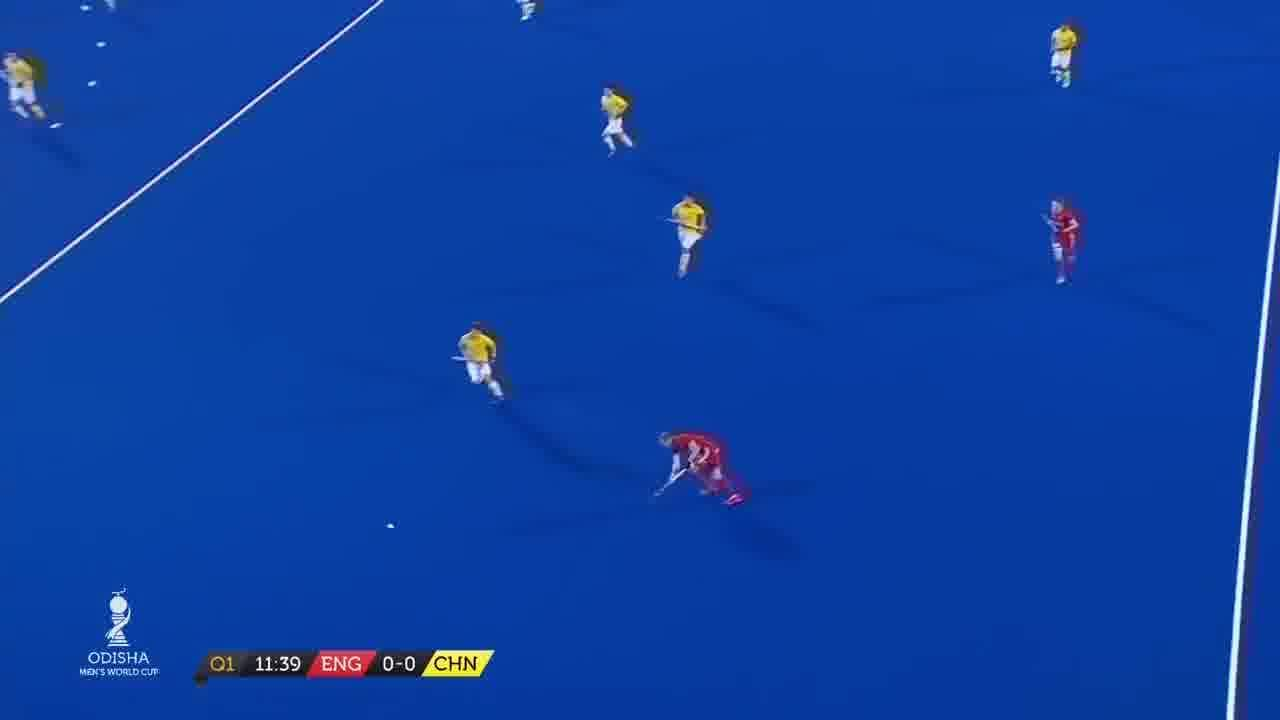ball: (384, 518, 396, 536)
